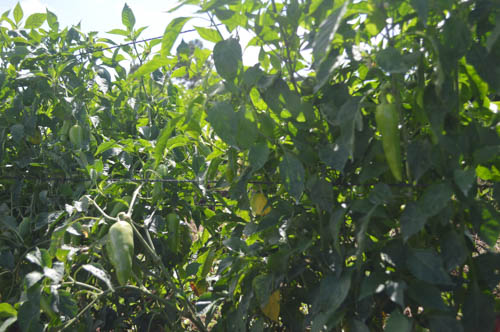ChiliPepper: (375, 104, 405, 180), (110, 224, 134, 285)
